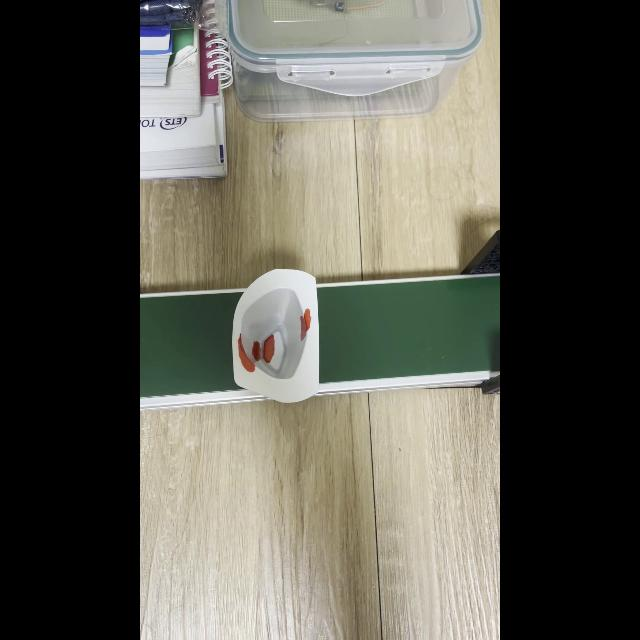dirty: (232, 268, 321, 402)
